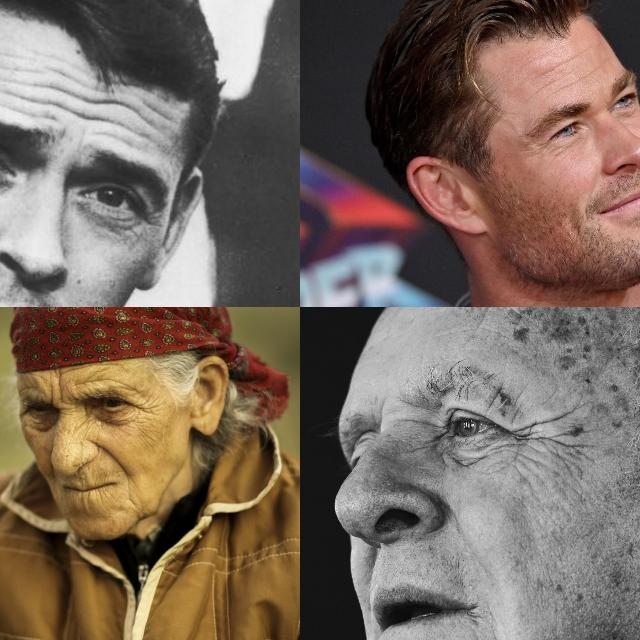bunny_line: (400, 434, 430, 466), (72, 414, 96, 434)
chin: (74, 493, 100, 507)
crows_feet: (521, 417, 583, 471), (136, 394, 156, 426), (529, 142, 561, 160)
forehead: (134, 90, 174, 134), (5, 84, 50, 120), (473, 307, 513, 343), (100, 124, 140, 156), (55, 82, 89, 118), (93, 88, 131, 120), (534, 65, 574, 91), (46, 56, 78, 85), (584, 48, 610, 82), (78, 372, 119, 388), (17, 380, 45, 394)
frown_line: (53, 382, 69, 412)
gummy_smile: (100, 444, 128, 470)
sad_smile: (124, 484, 142, 512)
